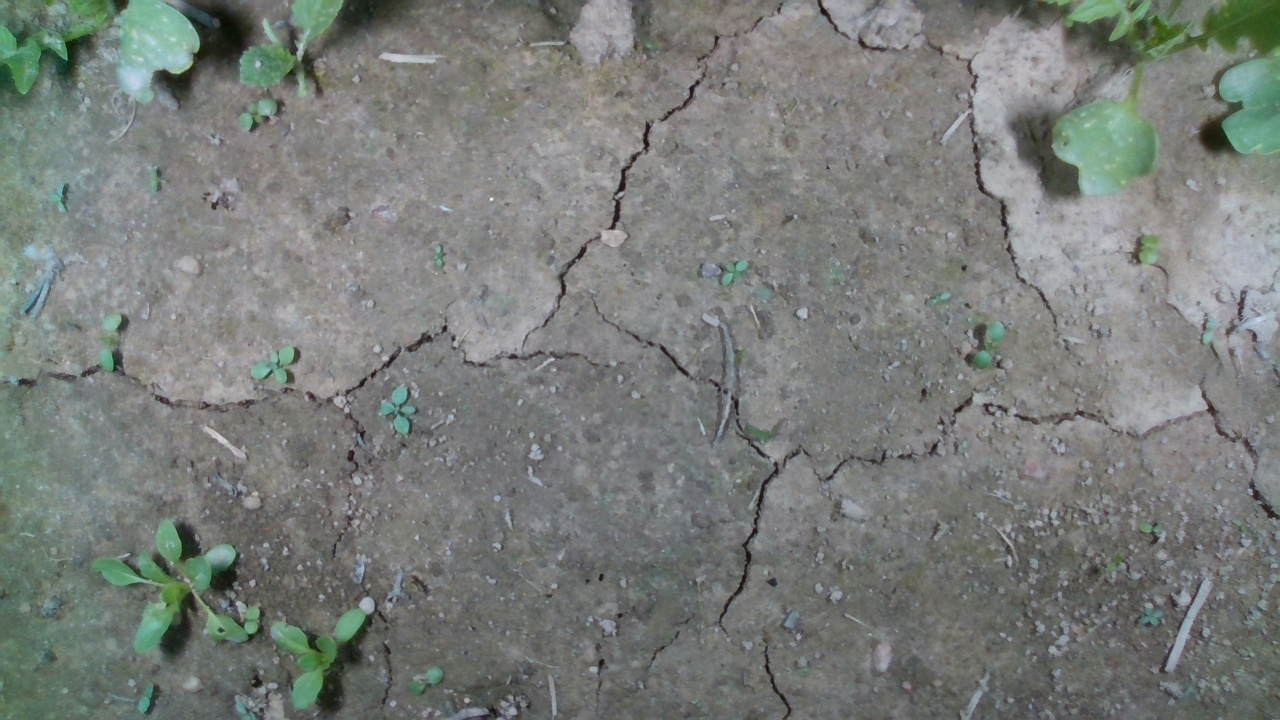weed: (379, 384, 417, 435), (248, 344, 295, 384), (970, 323, 1006, 369), (96, 312, 123, 373), (238, 97, 278, 132), (412, 665, 444, 694), (720, 257, 749, 287), (48, 178, 69, 215), (1137, 234, 1160, 267), (1137, 607, 1163, 626), (244, 605, 260, 633), (148, 165, 160, 194), (1139, 521, 1164, 534), (434, 243, 445, 270)
